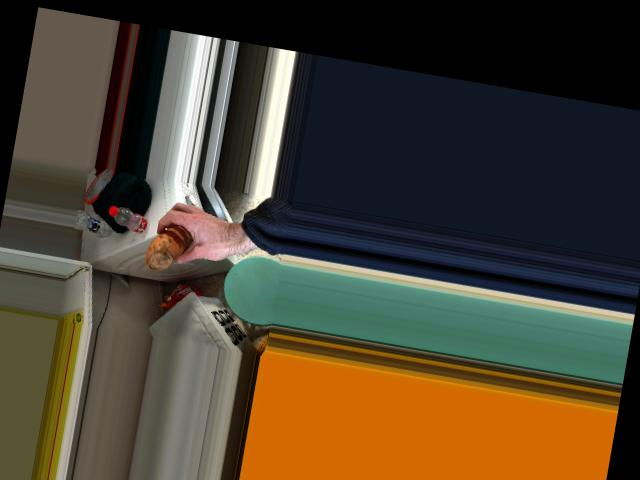sweet_potato: (141, 223, 193, 273)
